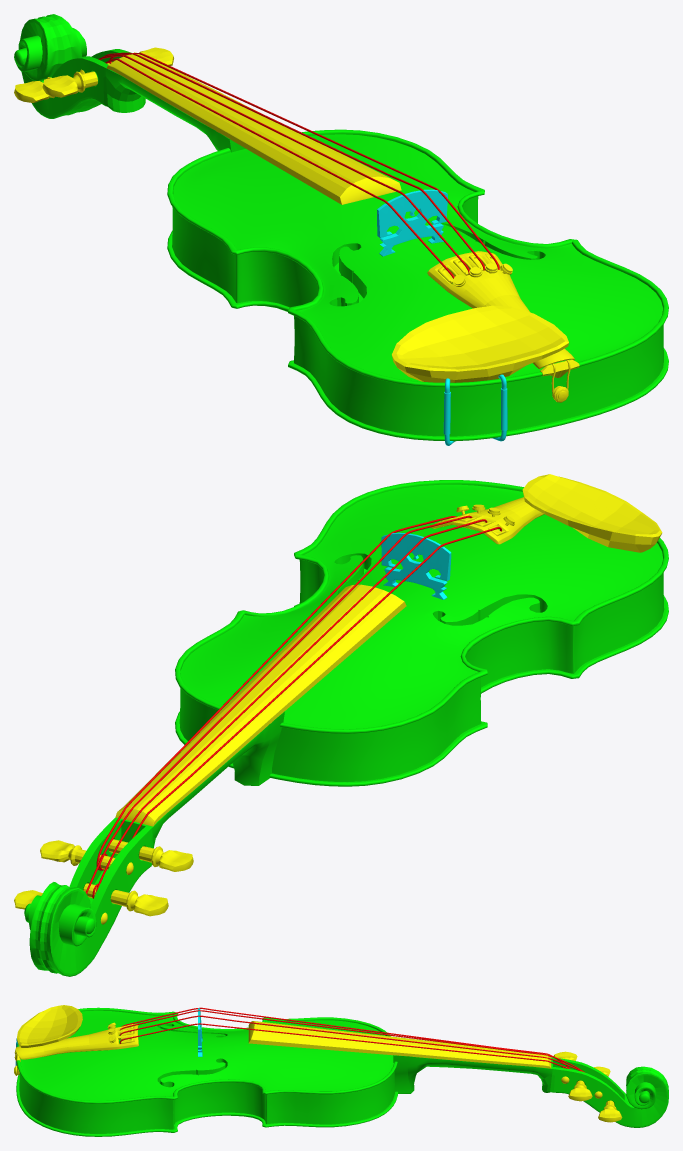
Rendered from geige_HP.fbx.
3 renders of one model, top to bottom at view 1: azimuth 30°, elevation 25°; view 2: azimuth 150°, elevation 25°; view 3: azimuth 270°, elevation 25°, orthographic. The views are drawn at different scales.
Visible parts, largest first — view 1: body_high, kinnstuetze_high, griffbrett_high, hals_high, saitenhalter_high, saiten_high, metallplatte_high, wirbel_high; view 2: body_high, griffbrett_high, hals_high, kinnstuetze_high, saiten_high, wirbel_high, metallplatte_high, saitenhalter_high; view 3: body_high, hals_high, griffbrett_high, saiten_high, saitenhalter_high, kinnstuetze_high, wirbel_high.
Boxes of the visible parts, <box> form: body_high: <box>167,129,668,441</box>; kinnstuetze_high: <box>392,305,568,445</box>; griffbrett_high: <box>107,54,401,204</box>; hals_high: <box>14,14,245,152</box>; saitenhalter_high: <box>427,251,579,399</box>; saiten_high: <box>98,52,499,278</box>; metallplatte_high: <box>377,189,447,256</box>; wirbel_high: <box>14,47,173,102</box>; body_high: <box>175,480,668,786</box>; griffbrett_high: <box>115,584,406,826</box>; hals_high: <box>24,711,284,976</box>; kinnstuetze_high: <box>522,474,662,552</box>; saiten_high: <box>85,515,501,898</box>; wirbel_high: <box>14,839,193,924</box>; metallplatte_high: <box>381,532,451,599</box>; saitenhalter_high: <box>431,497,544,544</box>; body_high: <box>16,1007,397,1136</box>; hals_high: <box>393,1055,668,1127</box>; griffbrett_high: <box>248,1021,551,1068</box>; saiten_high: <box>119,1007,584,1072</box>; saitenhalter_high: <box>14,1022,138,1075</box>; kinnstuetze_high: <box>15,1005,82,1065</box>; wirbel_high: <box>553,1051,622,1122</box>.
Bounding box in the file's own units: 4.95 × 2.7 × 14.46.
